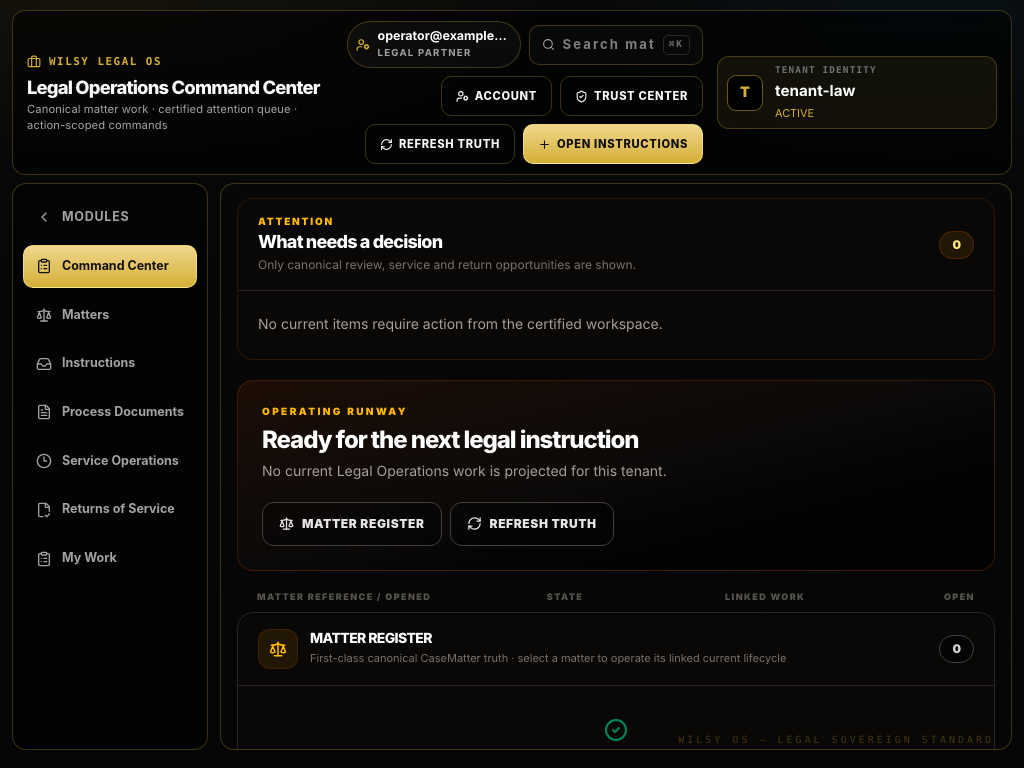
it: PW-P11C canonical Legal dashboard productive work › switches workload categories without manufacturing assignments
Click the button "My Work" at (110, 558), box [23, 537, 197, 580]
(page scrolled)
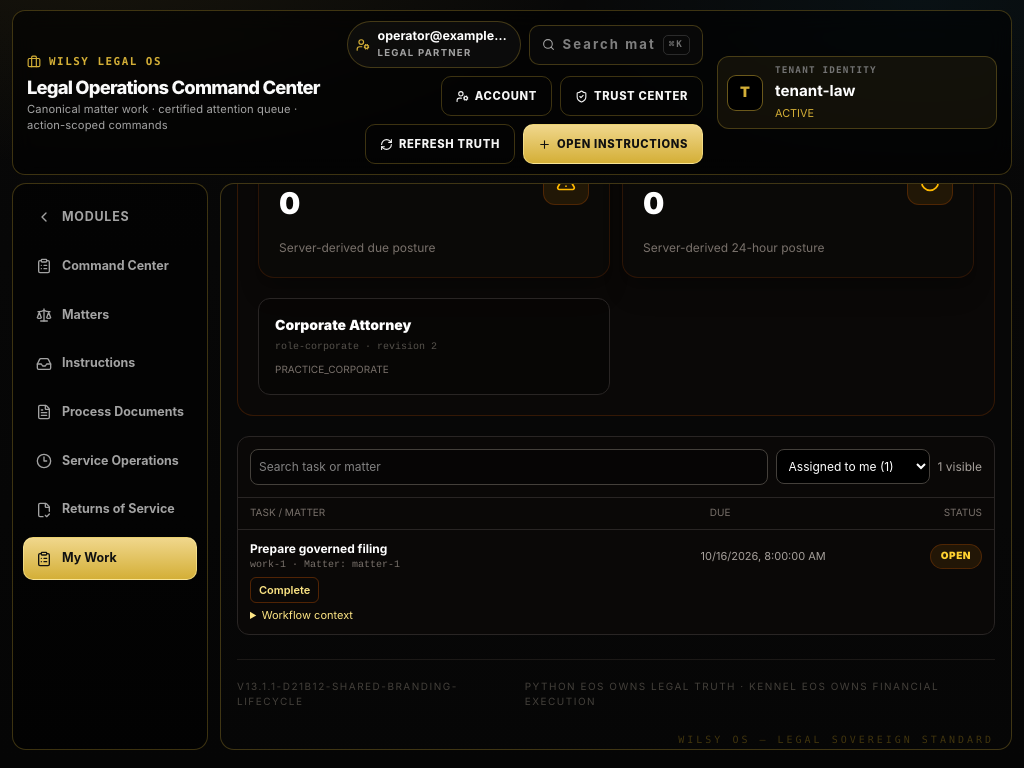
Now the text "Prepare governed filing" is shown, box [250, 540, 387, 556]
Now the element named "Compact legal work queue" is shown, box [237, 436, 995, 634]
Select "Overdue work (0)" in the dropdown named "Work queue category" at (853, 466), box [776, 449, 930, 484]
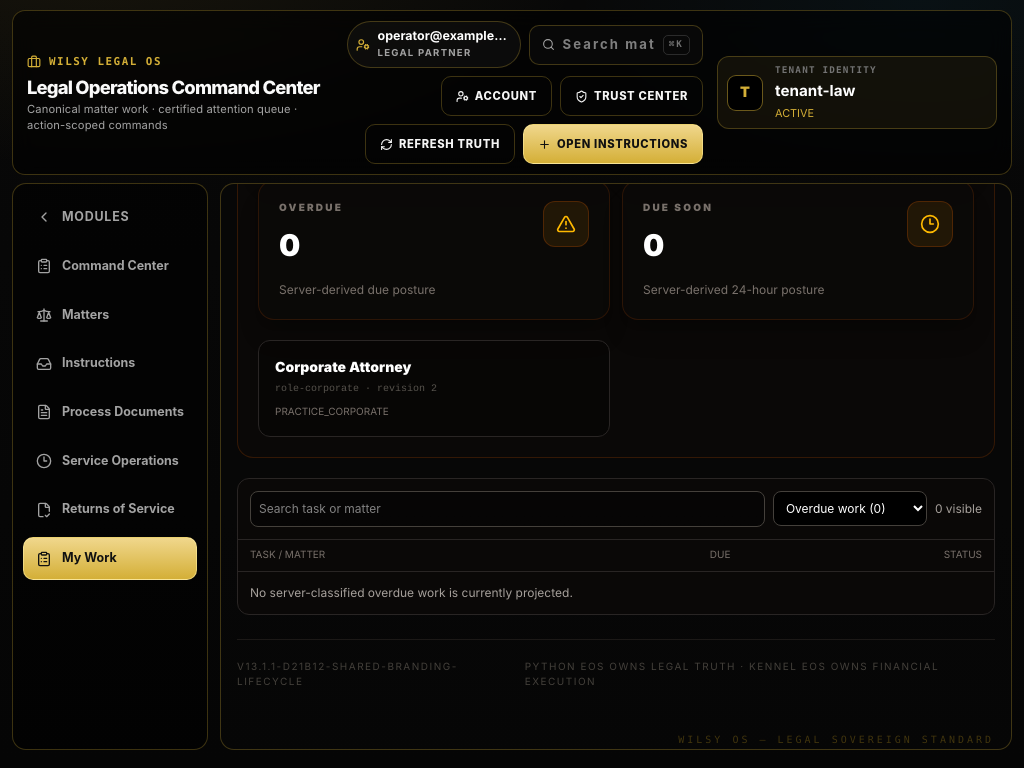
Now the text "No server-classified overdue work is currently projected." is shown, box [250, 584, 573, 600]
Now the text "Prepare governed filing" is gone
Select "Assigned to me (1)" in the dropdown named "Work queue category" at (850, 508), box [773, 491, 927, 526]
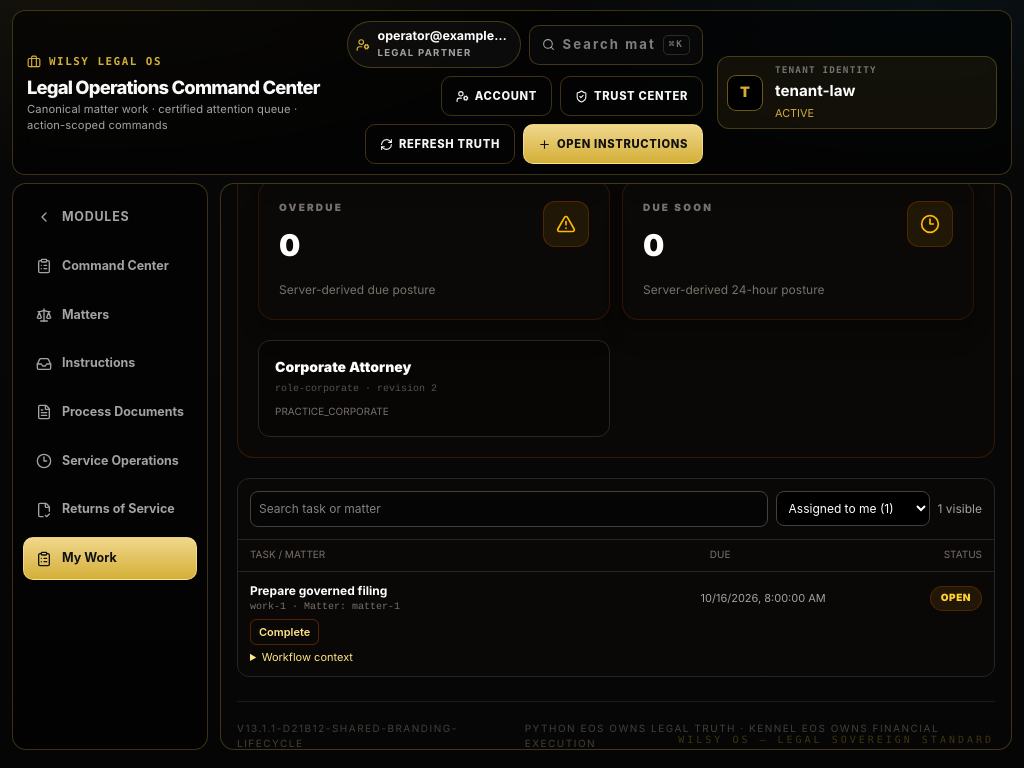
Now the text "Prepare governed filing" is shown, box [250, 582, 387, 598]
